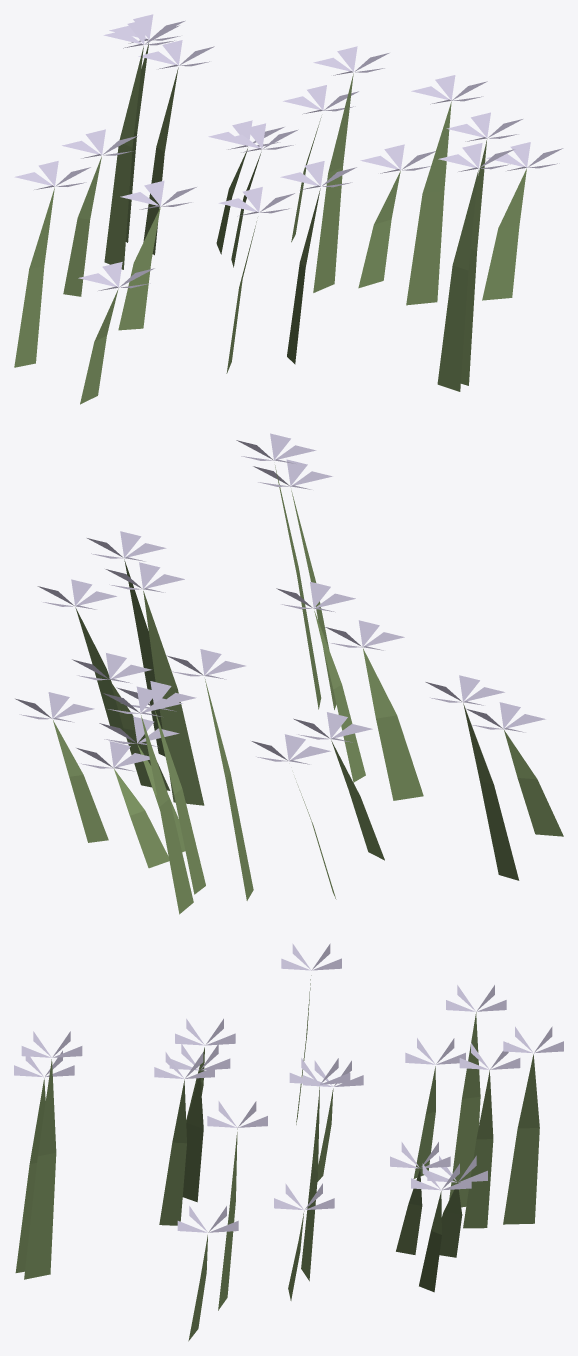
Rendered from flower_patch.glb.
3 views of the same model, one above another, from view 1: azimuth 30°, elevation 25°; view 2: azimuth 150°, elevation 25°; view 3: azimuth 270°, elevation 25° (orthographic). The views are drawn at different scales.
Visible parts, largest first — view 1: FlowerBlades; view 2: FlowerBlades; view 3: FlowerBlades.
Boxes of the visible parts, left/top/right/bottom form: FlowerBlades: left=14, top=14, right=563, bottom=404; FlowerBlades: left=15, top=433, right=563, bottom=914; FlowerBlades: left=14, top=943, right=563, bottom=1341.
Size of the model in its own units: 1.23 by 0.5598 by 1.12.
